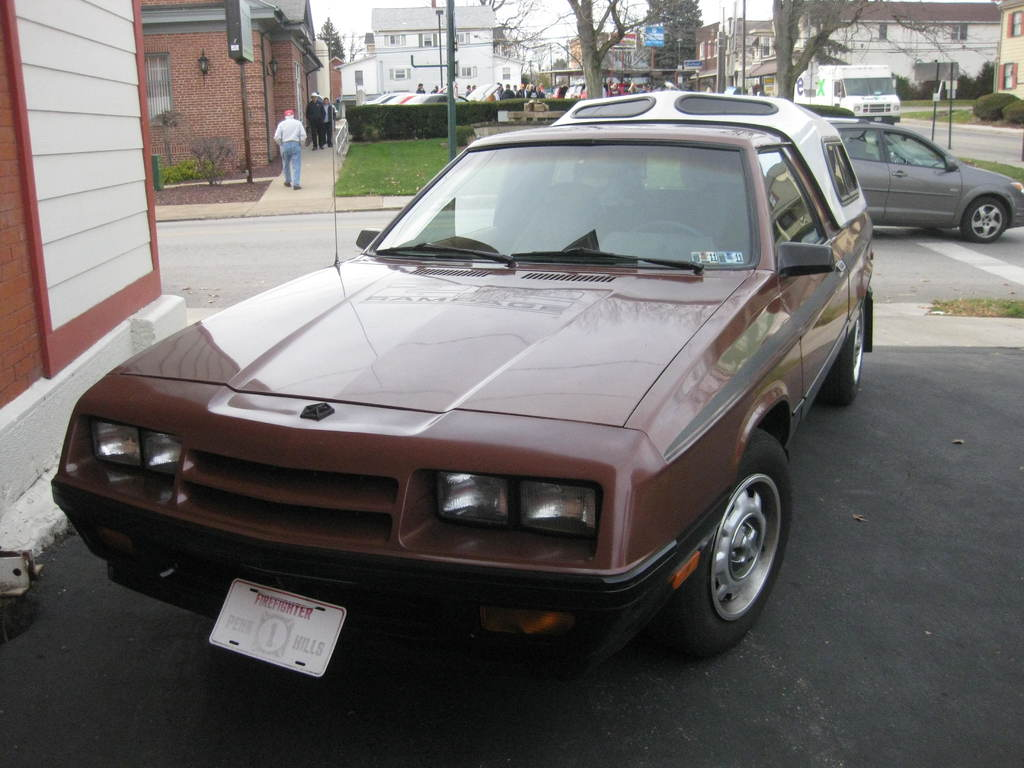Car: (66, 99, 858, 669), (822, 119, 1023, 240)
